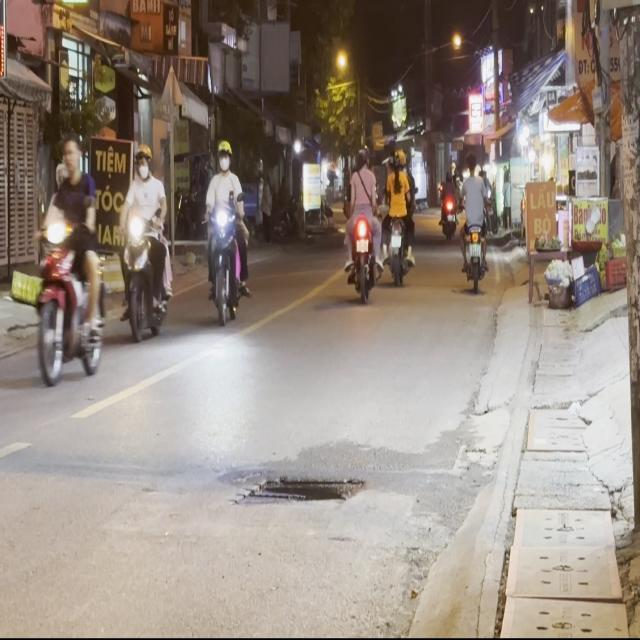helmet: (134, 142, 151, 178), (216, 138, 231, 170)
licenseplate: (31, 134, 105, 386), (116, 141, 172, 343), (202, 137, 250, 325)
motorcyclist: (61, 136, 81, 176)
